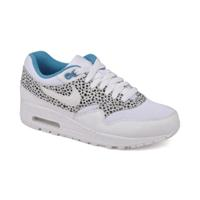shoe: (20, 50, 180, 149)
